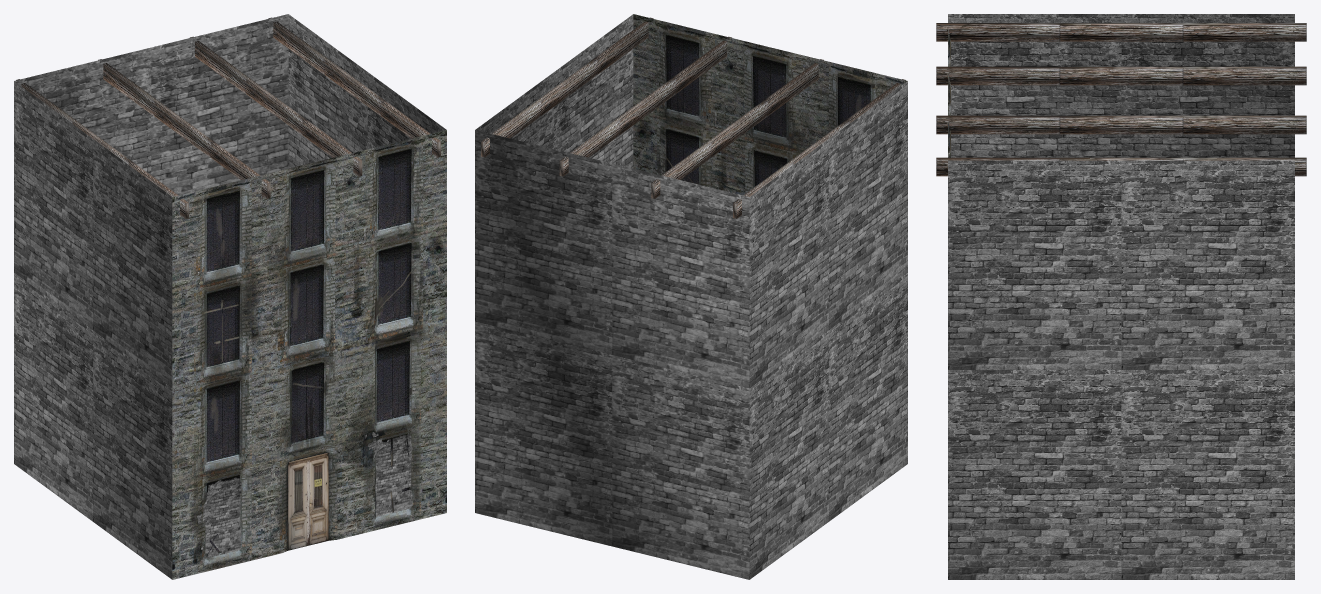
Rendered from building_destroyed.glb.
3 renders of one model, left to right at view 1: azimuth 30°, elevation 25°; view 2: azimuth 150°, elevation 25°; view 3: azimuth 270°, elevation 25°, orthographic. The views are drawn at different scales.
Visible parts, largest first — view 1: Object_2, Object_3, Object_4; view 2: Object_3, Object_2, Object_4; view 3: Object_3, Object_4.
Boxes of the visible parts, x1=… form: Object_2: x1=172, y1=130, x2=446, y2=579; Object_3: x1=14, y1=14, x2=446, y2=579; Object_4: x1=16, y1=17, x2=440, y2=218; Object_3: x1=475, y1=14, x2=907, y2=579; Object_2: x1=633, y1=14, x2=907, y2=195; Object_4: x1=481, y1=17, x2=905, y2=218; Object_3: x1=948, y1=14, x2=1294, y2=579; Object_4: x1=936, y1=23, x2=1306, y2=176.
Bounding box in the file's own units: 150 × 200 × 160.
Materials: 3 (3 with a texture image).
